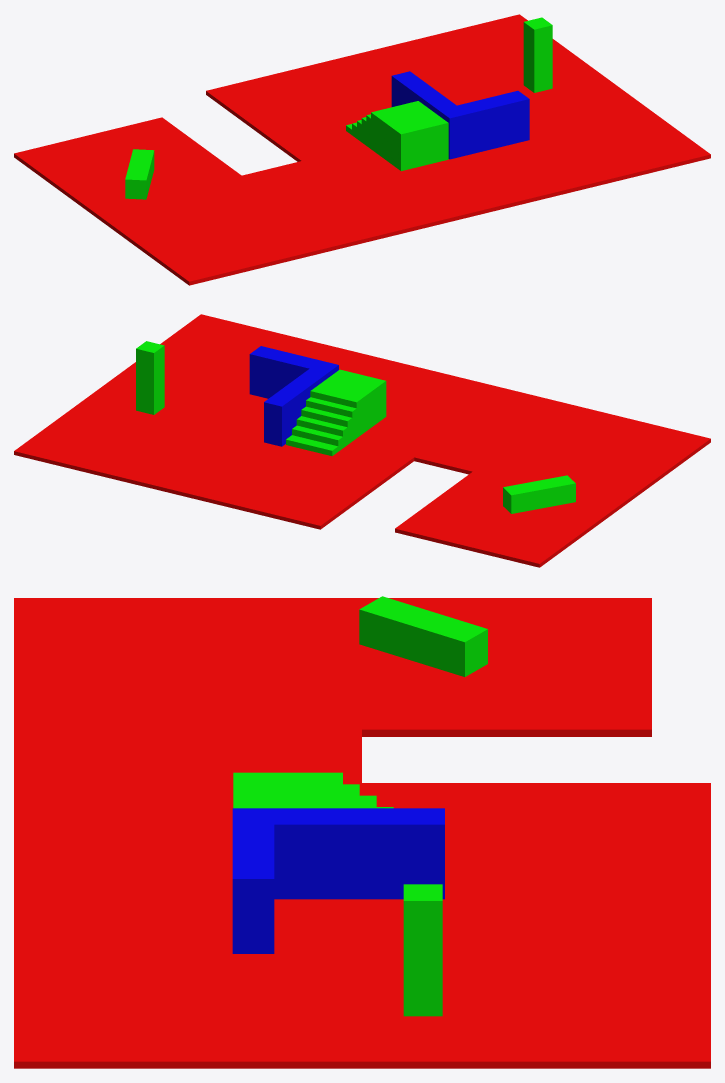
File: example-model.fbx
The picture shows the model from 3 angles, top to bottom: view 1: azimuth 30°, elevation 25°; view 2: azimuth 150°, elevation 25°; view 3: azimuth 270°, elevation 25°; orthographic projection. The views are drawn at different scales.
Visible parts, largest first — view 1: Ground, Wall, Stairs, Pillar.Standing, Pillar.Lying; view 2: Ground, Stairs, Wall, Pillar.Lying, Pillar.Standing; view 3: Ground, Wall, Pillar.Lying, Pillar.Standing, Stairs.
Boxes of the visible parts, bbox=[...] form: Ground: bbox=[14, 14, 710, 285]; Wall: bbox=[391, 71, 529, 159]; Stairs: bbox=[346, 101, 448, 171]; Pillar.Standing: bbox=[523, 17, 552, 92]; Pillar.Lying: bbox=[125, 149, 154, 199]; Ground: bbox=[14, 314, 710, 567]; Stairs: bbox=[286, 369, 386, 455]; Wall: bbox=[249, 346, 338, 446]; Pillar.Lying: bbox=[503, 475, 575, 513]; Pillar.Standing: bbox=[136, 341, 164, 414]; Ground: bbox=[14, 598, 710, 1068]; Wall: bbox=[232, 808, 444, 953]; Pillar.Lying: bbox=[359, 596, 487, 676]; Pillar.Standing: bbox=[403, 884, 442, 1016]; Stairs: bbox=[233, 772, 393, 808].
Size of the model in its own units: 5638 by 694 by 3582.
